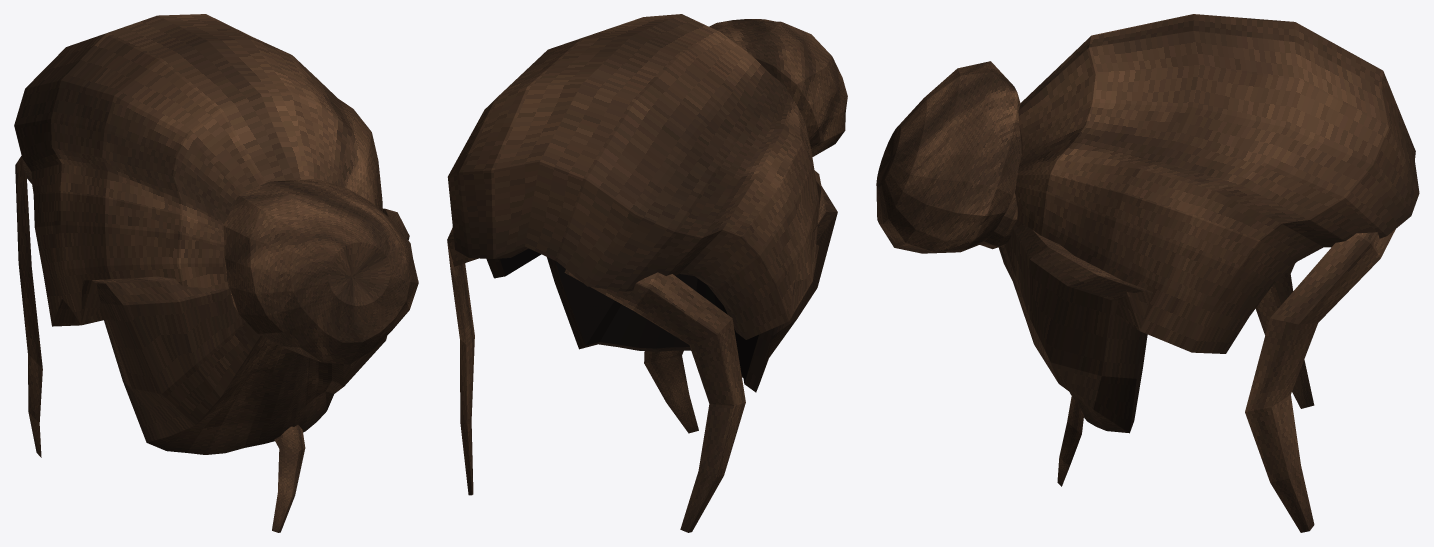
File: CoqueSoltoFeminino.glb
3 views of the same model, side by side, from view 1: azimuth 30°, elevation 25°; view 2: azimuth 150°, elevation 25°; view 3: azimuth 270°, elevation 25° (orthographic).
Parts seen in each view (by area): view 1: CoqueSoltoFeminino; view 2: CoqueSoltoFeminino; view 3: CoqueSoltoFeminino.
Boxes of the visible parts, bbox=[...] form: CoqueSoltoFeminino: bbox=[14, 14, 418, 532]; CoqueSoltoFeminino: bbox=[447, 14, 847, 532]; CoqueSoltoFeminino: bbox=[876, 14, 1419, 532].
Size of the model in its own units: 0.1983 by 0.2781 by 0.3026.
Materials: 1 (1 with a texture image).
